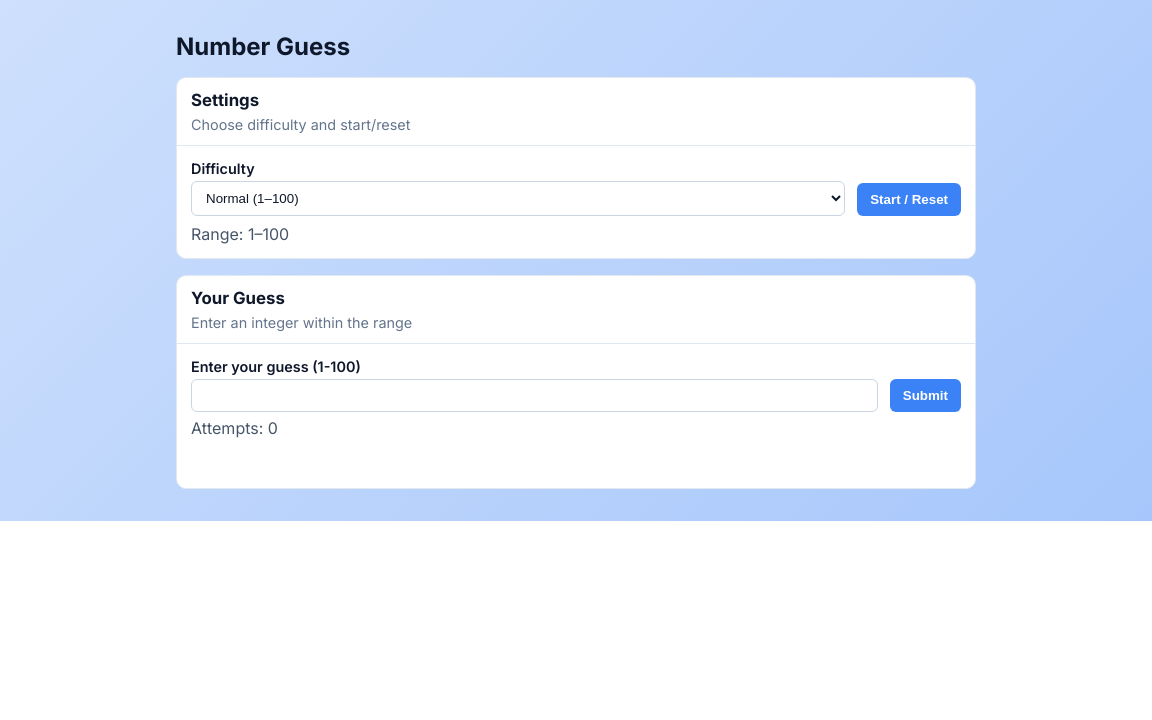
Test: NumberGuessPage success flow › submits correct guess, shows attempts, score, best, and play again
In the field labelled "Enter your guess (1-100)": (534, 396) [191,379,878,412], type "42"
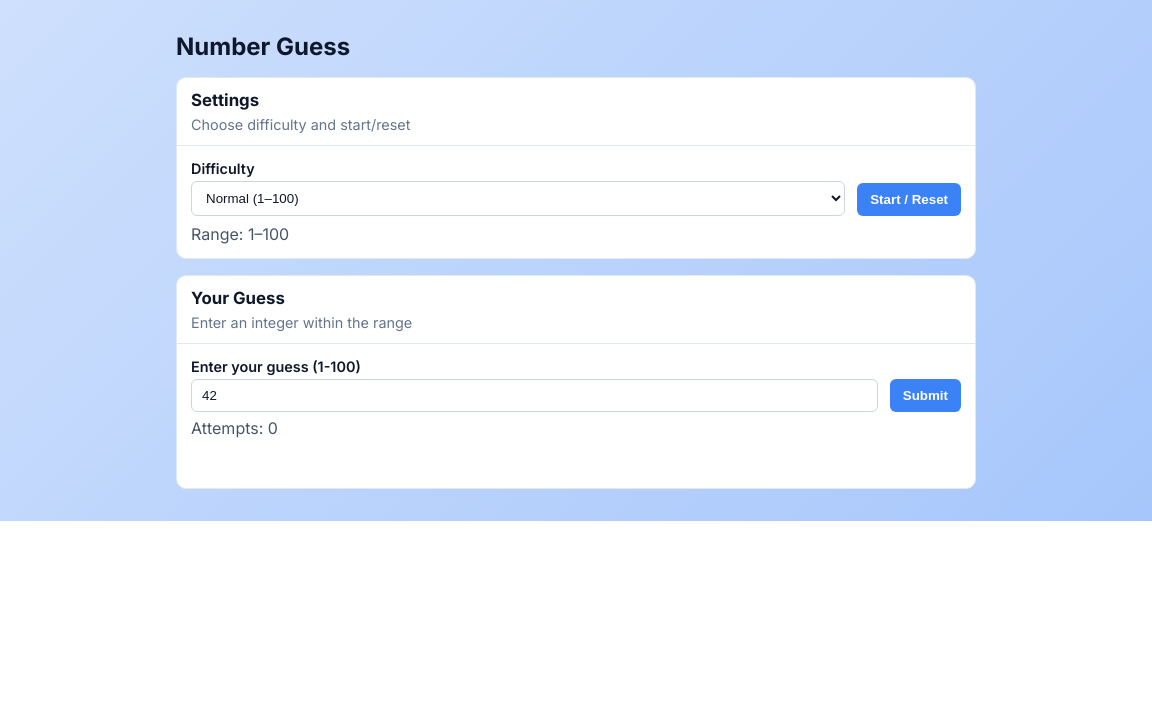
Click the button "Submit": (925, 396) [890,379,961,412]
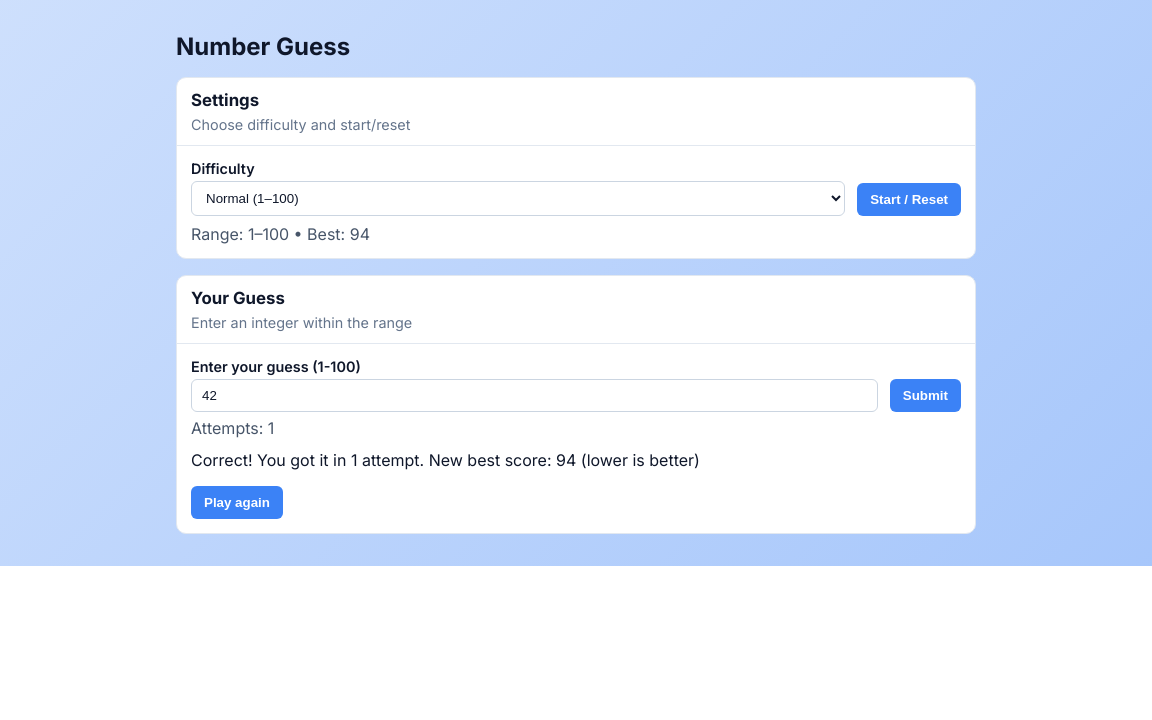
Now the message shows "Correct!", box [191,450,700,470]
Now the message shows "New best score:", box [191,450,700,470]
Now the button "Play again" is shown, box [191,486,283,519]
